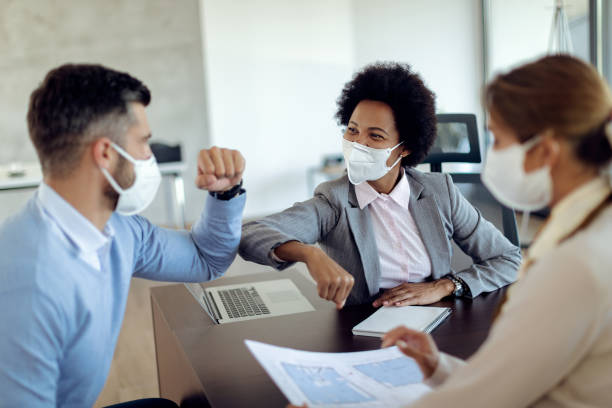with mask: (474, 99, 579, 217), (90, 89, 163, 218), (340, 88, 409, 194)
